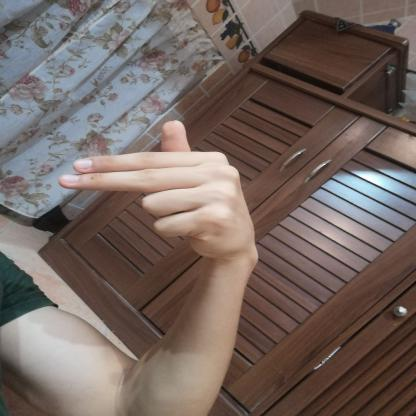GHAYN: (44, 111, 269, 271)
